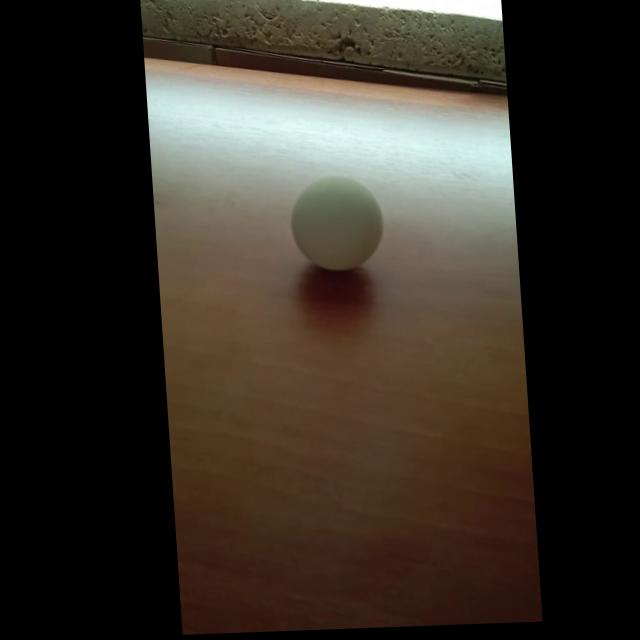white ball: (287, 173, 386, 273)
